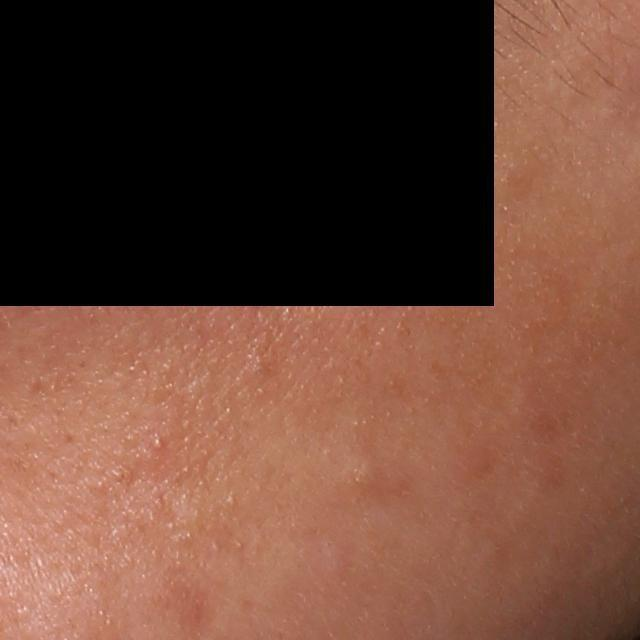comedo: (333, 451, 377, 492), (150, 434, 162, 451)
